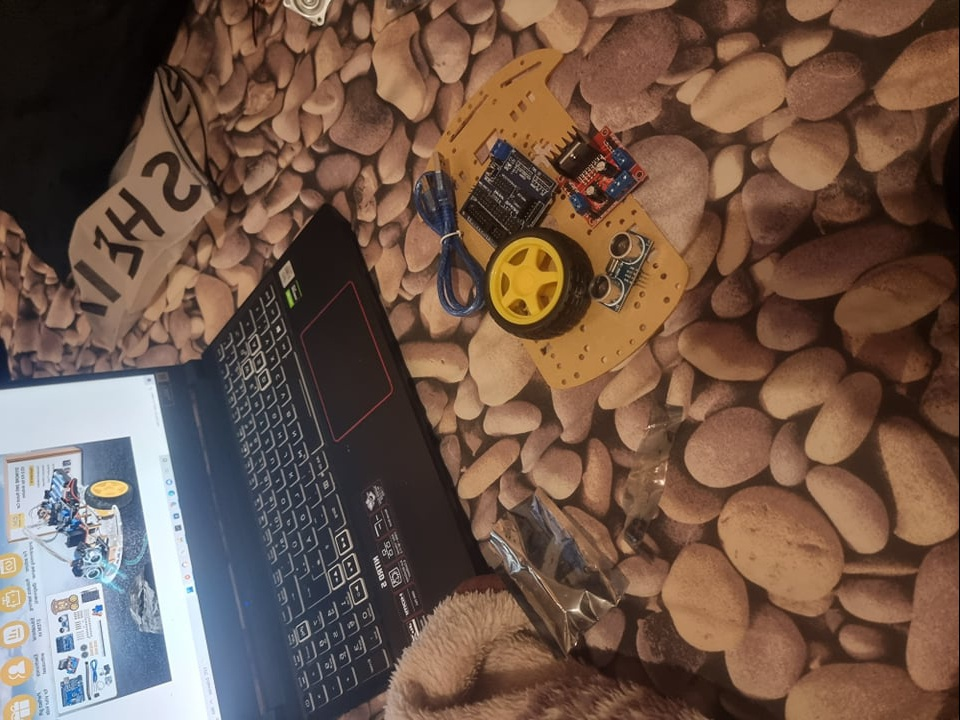5V EXPANSION: (457, 141, 558, 247)
MOTOR: (546, 122, 653, 225)
SENSOR: (592, 224, 651, 312), (84, 544, 107, 583), (57, 617, 72, 637)
UNO R3: (58, 677, 88, 705)
